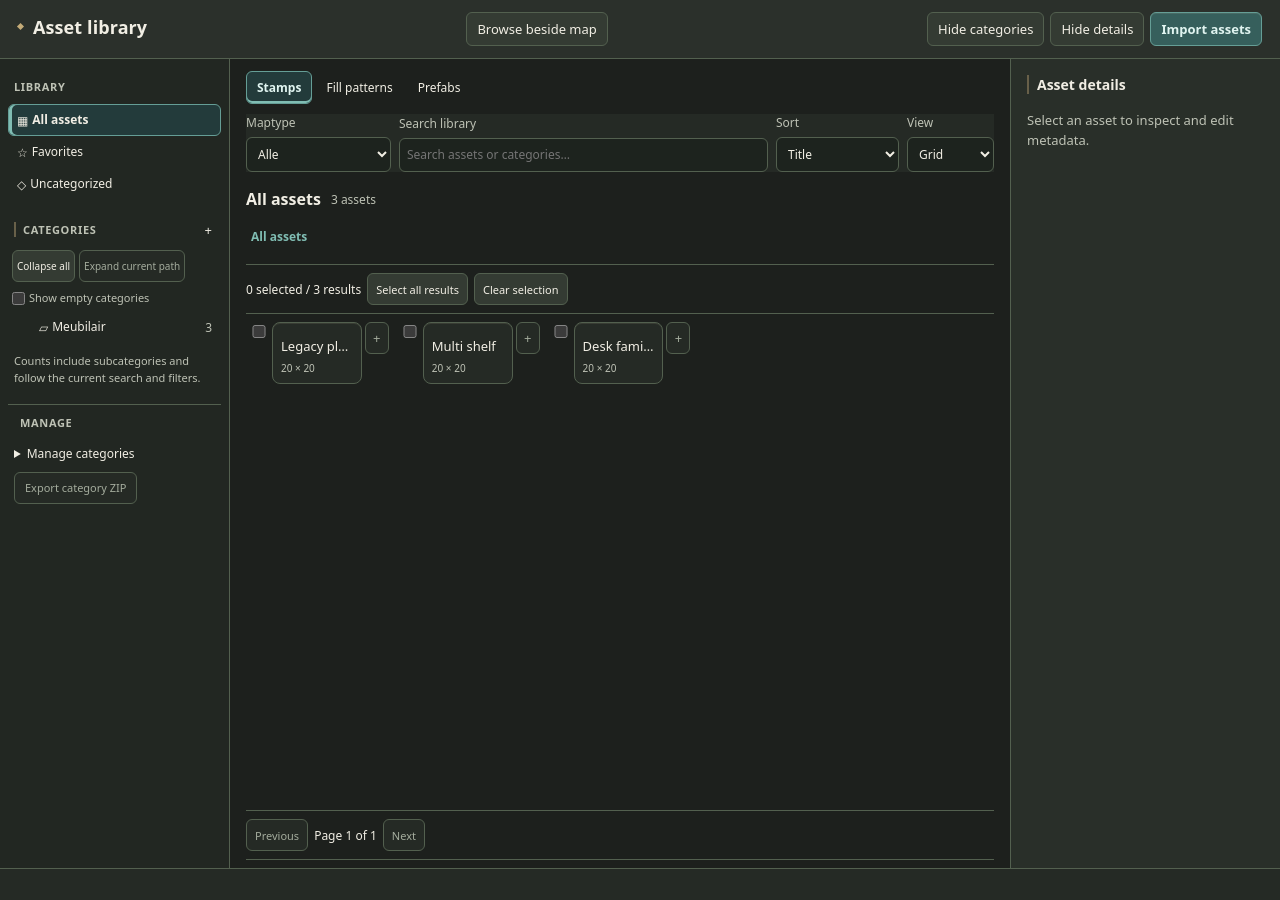
Test: cannot reapply an old select-all response after the maptype scope changes
Expected: the text "0 selected / 3 results" is shown, x1=246 y1=280 x2=361 y2=298
Click the button "Select all results" at (418, 289), box x1=367 y1=273 x2=468 y2=305
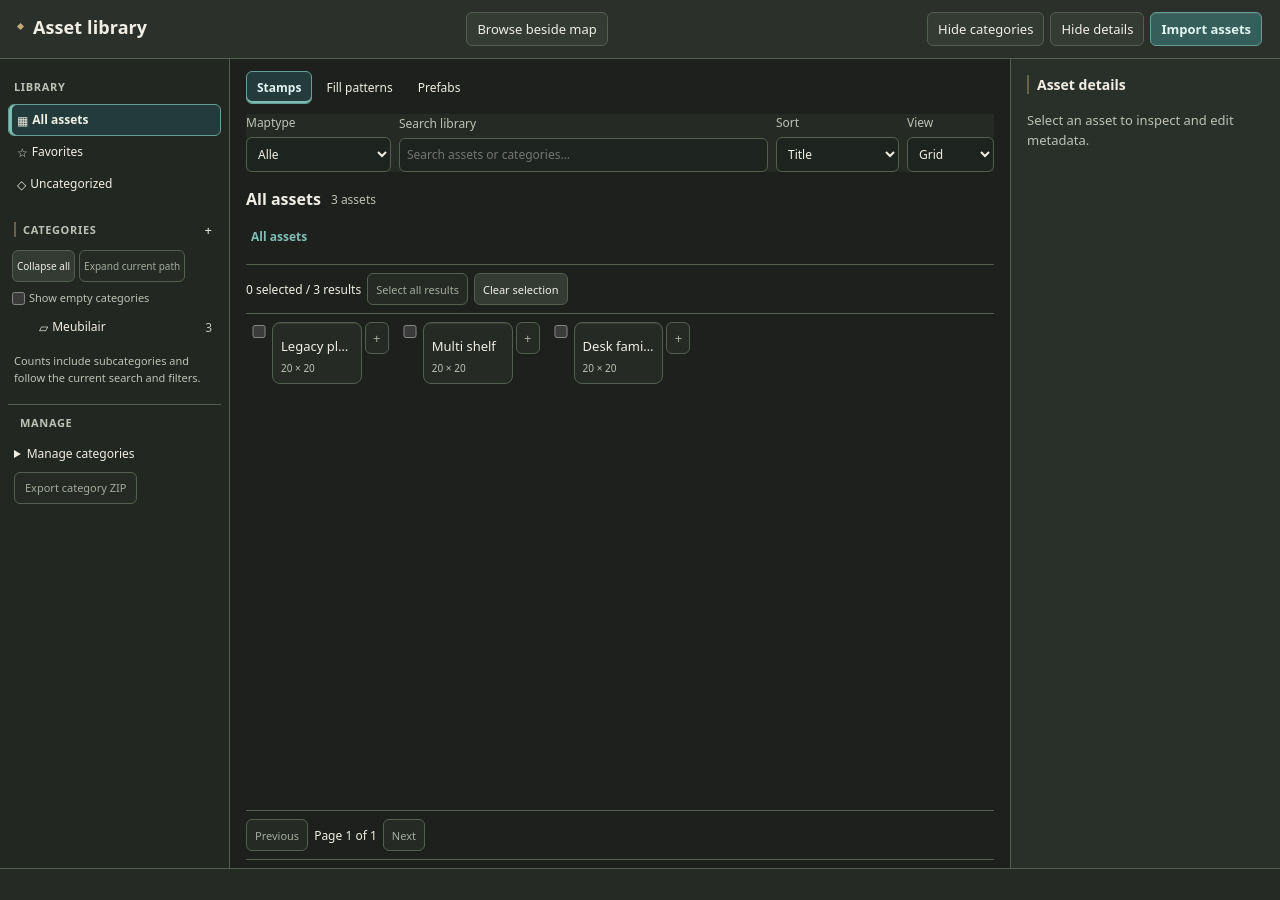
Select "Regional map" in the dropdown named "Maptype filter" at (318, 154), box x1=246 y1=137 x2=391 y2=172
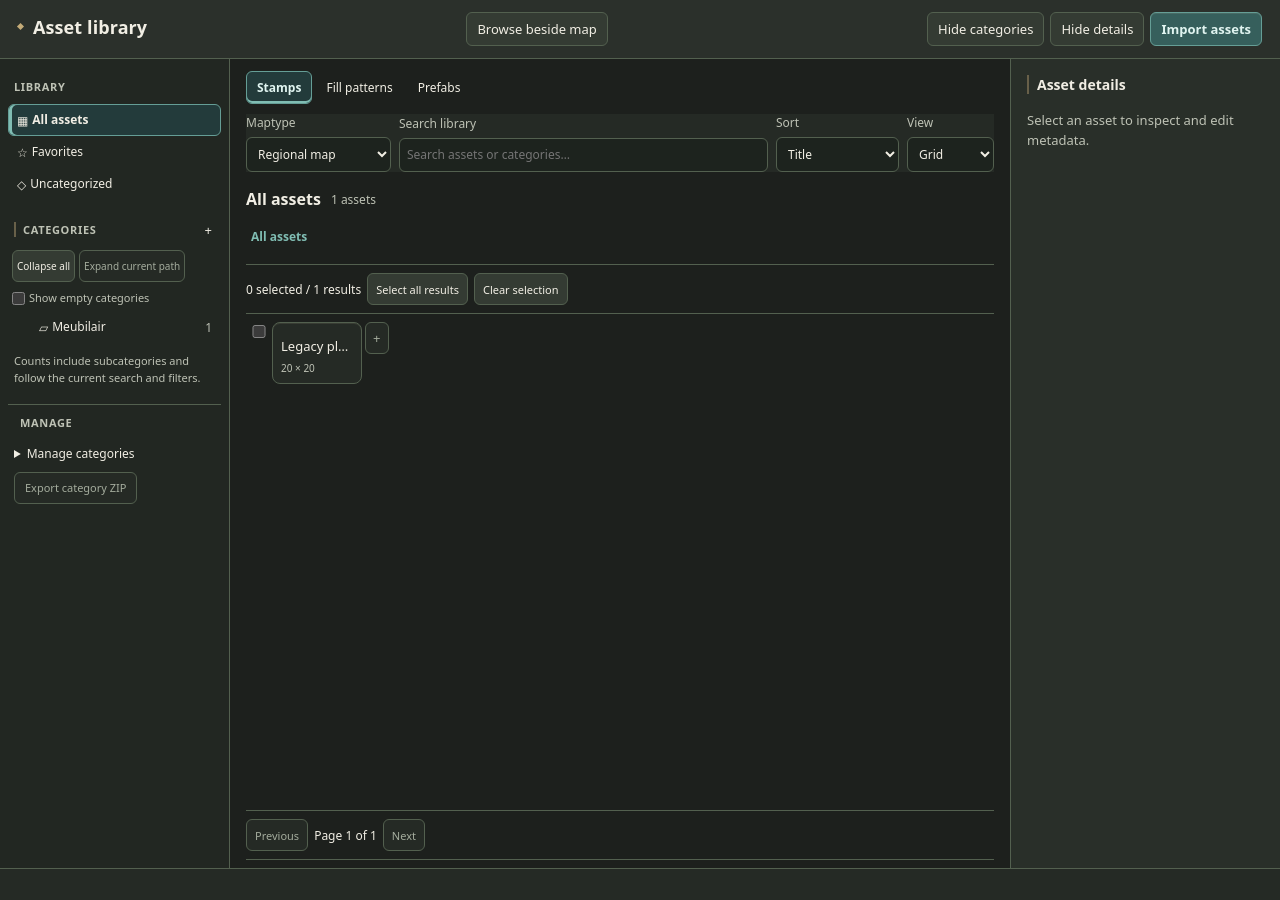
Expected: the text "0 selected / 1 results" is shown, x1=246 y1=280 x2=361 y2=298
